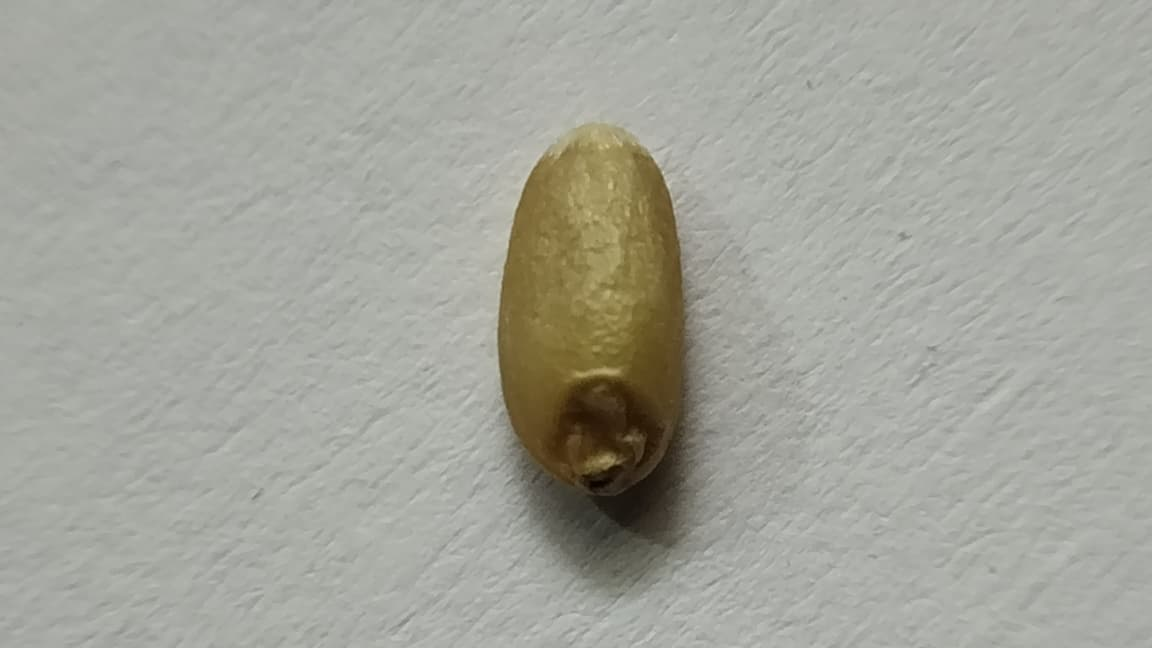healthy: (498, 123, 684, 494)
